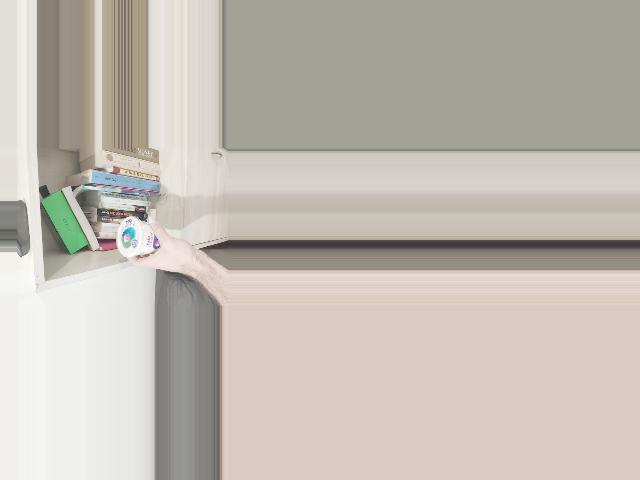cotage: (114, 216, 166, 261)
